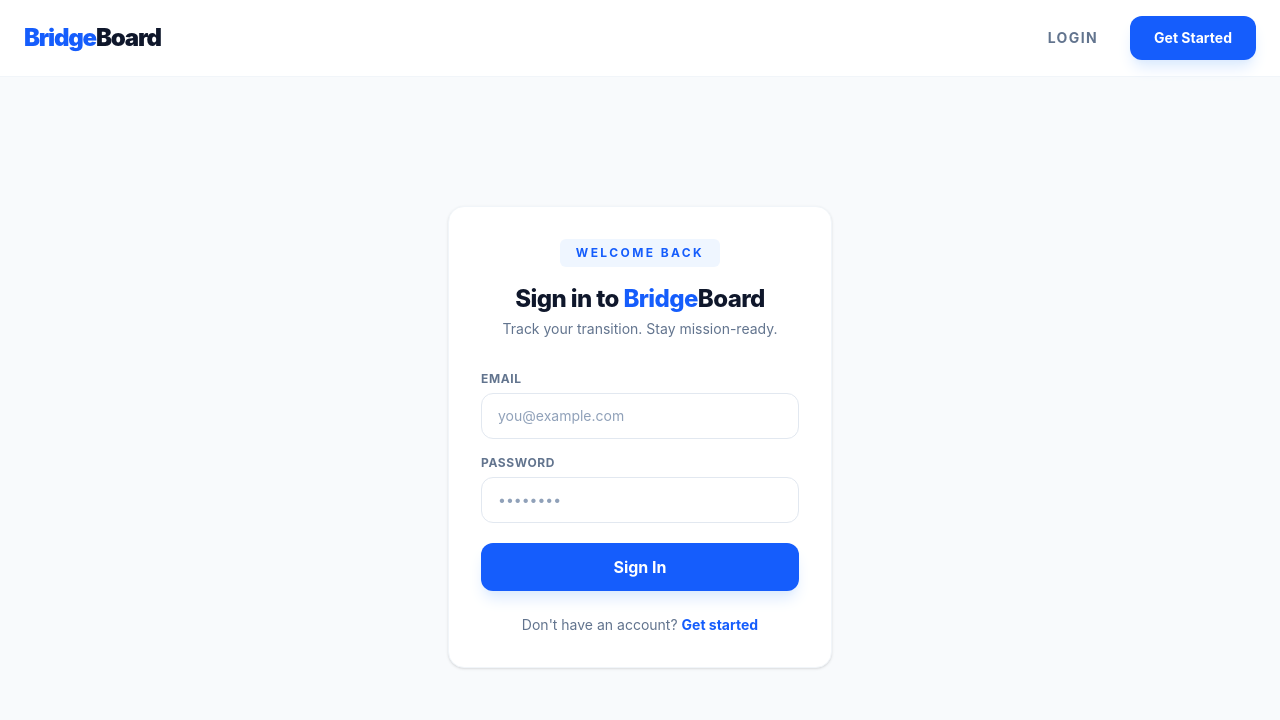
Test: 01 · Login Page › shows an error on wrong credentials
Type "wrong@email.com" into the field with placeholder "you@example.com" at point(640, 416), box top-left (481, 393), bottom-right (799, 439)
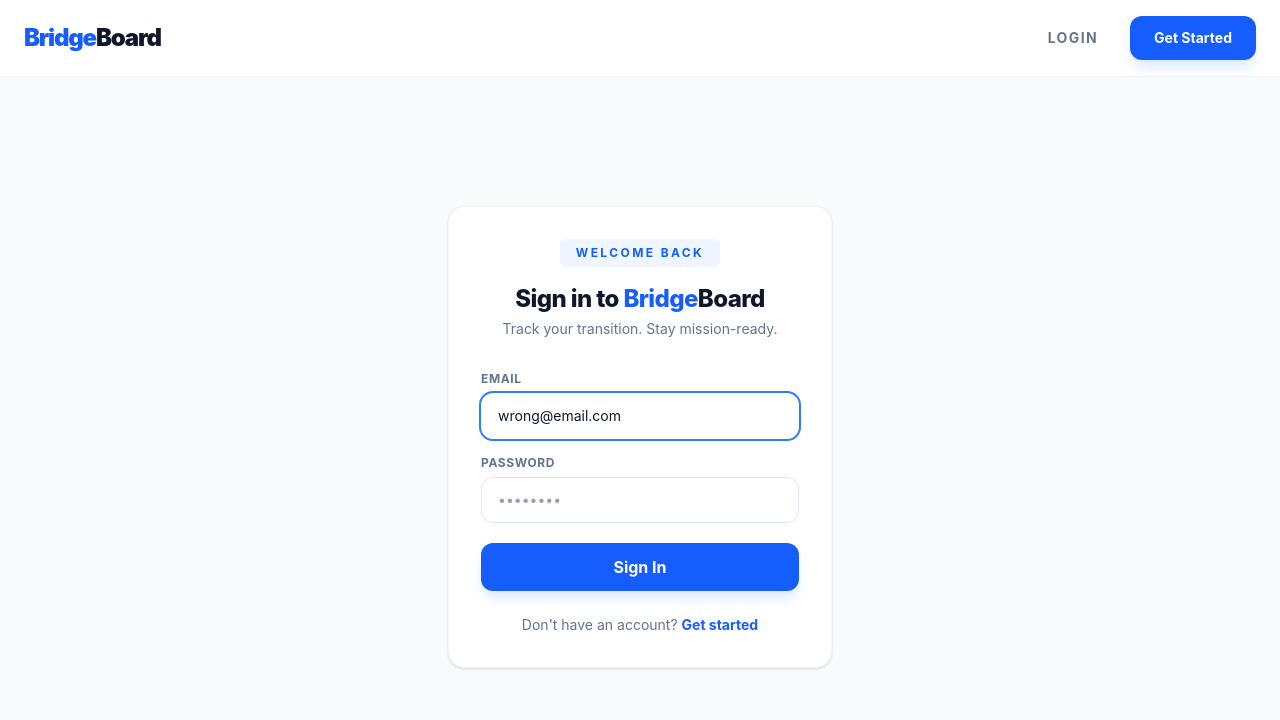
Type "badpassword" into the password field with placeholder "••••••••" at point(640, 500), box top-left (481, 477), bottom-right (799, 523)
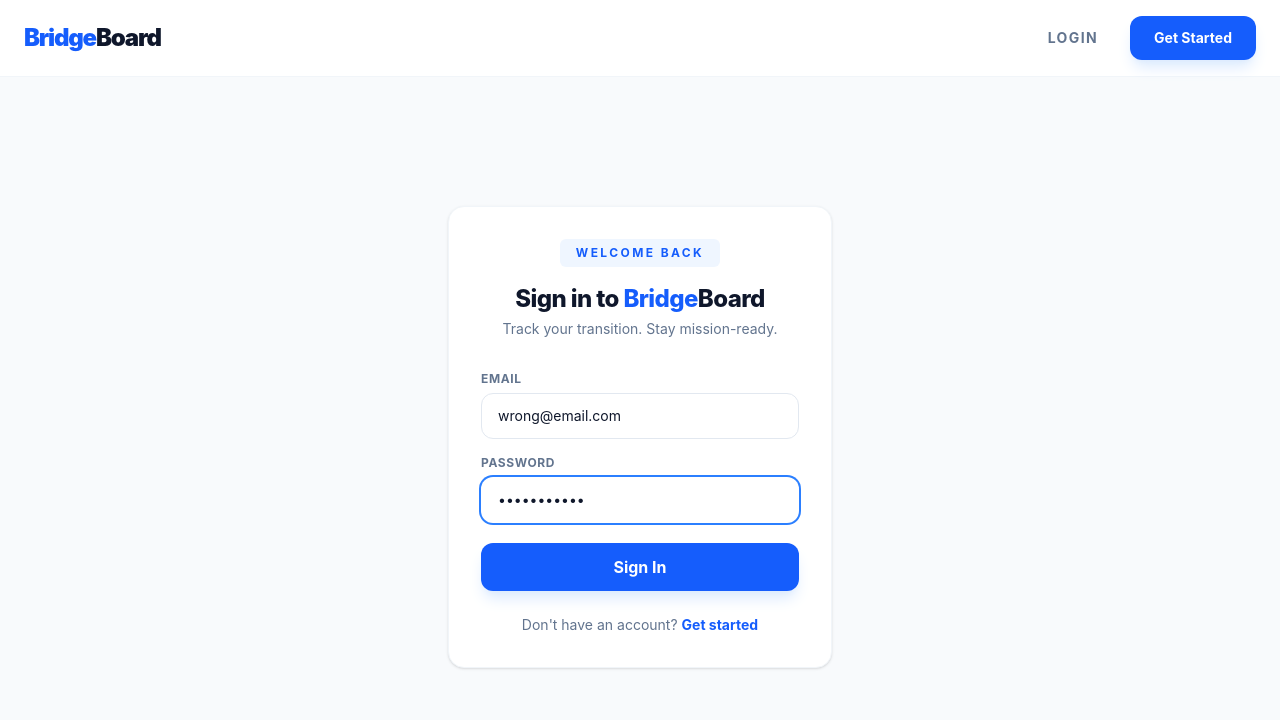
Click the submit button at point(640, 567), box top-left (481, 543), bottom-right (799, 591)
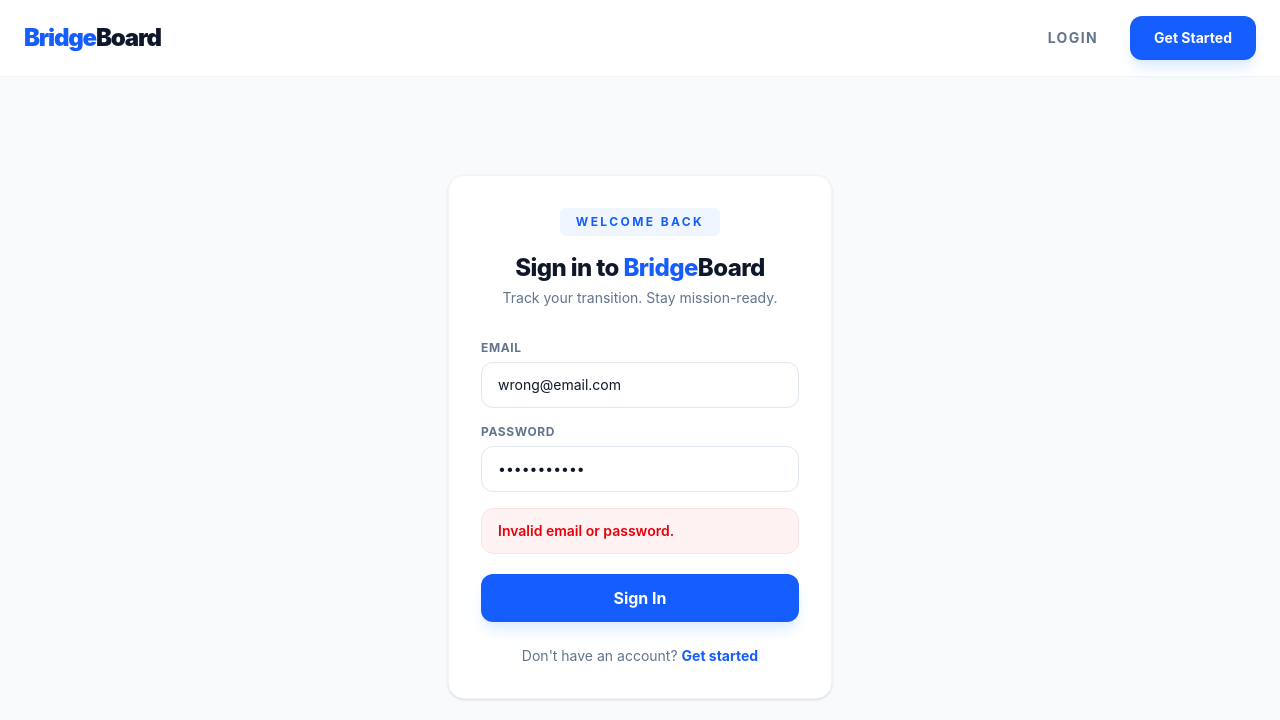
Now the text "Invalid email or password." is shown, box top-left (481, 508), bottom-right (799, 554)
